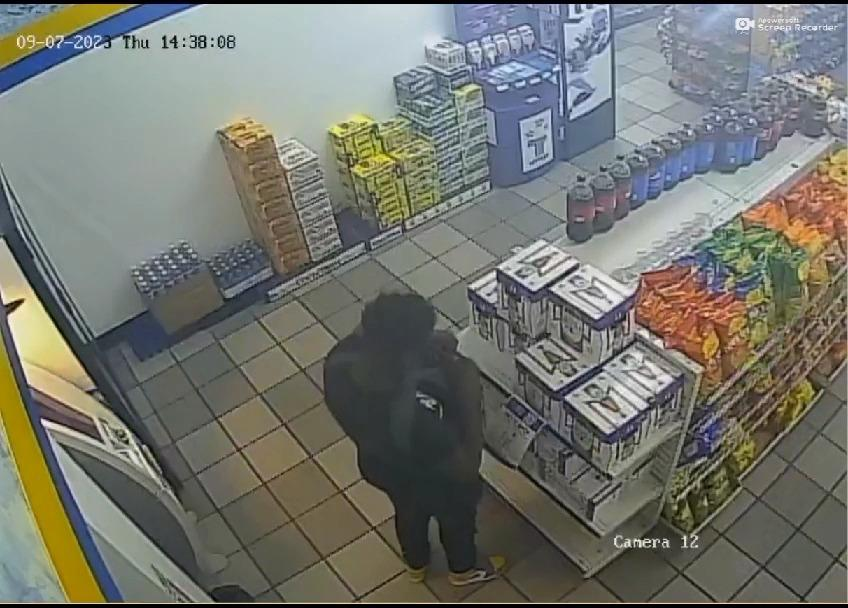normal: (2, 4, 847, 608)
